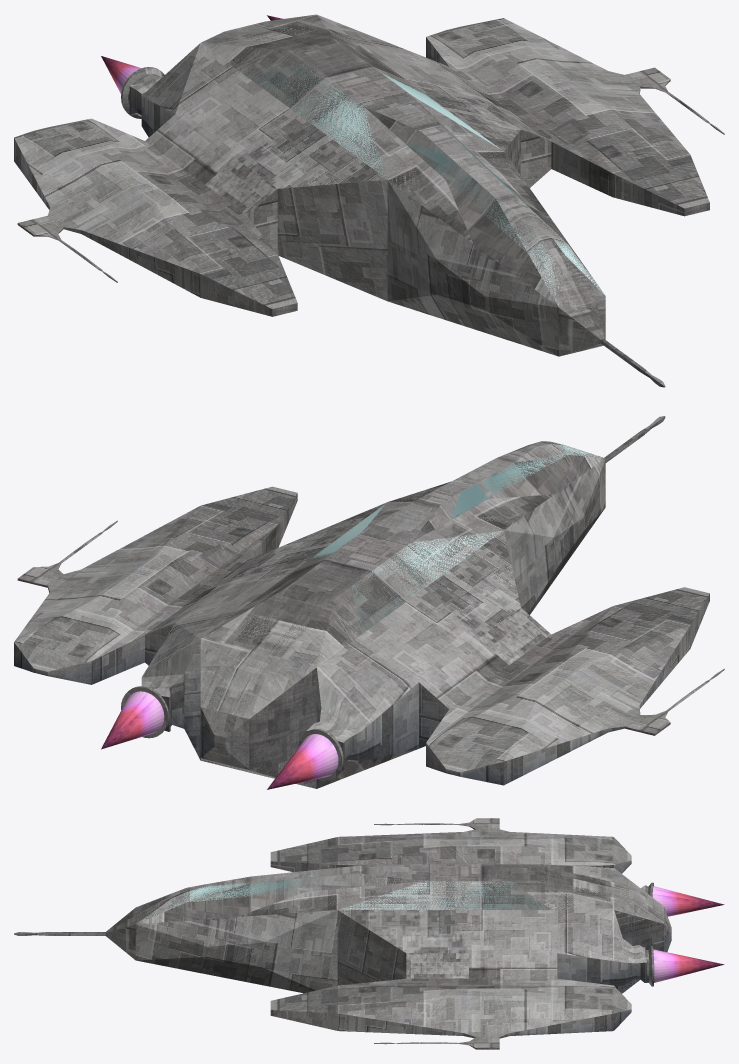
File: spaceship.glb
The picture shows the model from 3 angles, top to bottom: view 1: azimuth 30°, elevation 25°; view 2: azimuth 150°, elevation 25°; view 3: azimuth 270°, elevation 25°; orthographic projection. The views are drawn at different scales.
Visible parts, largest first — view 1: Cube; view 2: Cube; view 3: Cube.
Boxes of the visible parts, x1,y1,x2,y2 form: Cube: [14, 14, 724, 387]; Cube: [14, 416, 724, 789]; Cube: [14, 818, 724, 1049].
Bounding box in the file's own units: 10.96 × 2.43 × 14.34.
6 materials, 6 textured.
